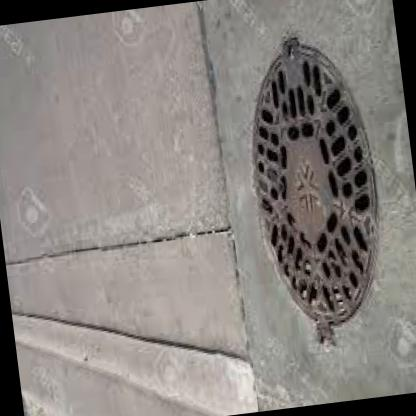manholes: (207, 4, 412, 376)
